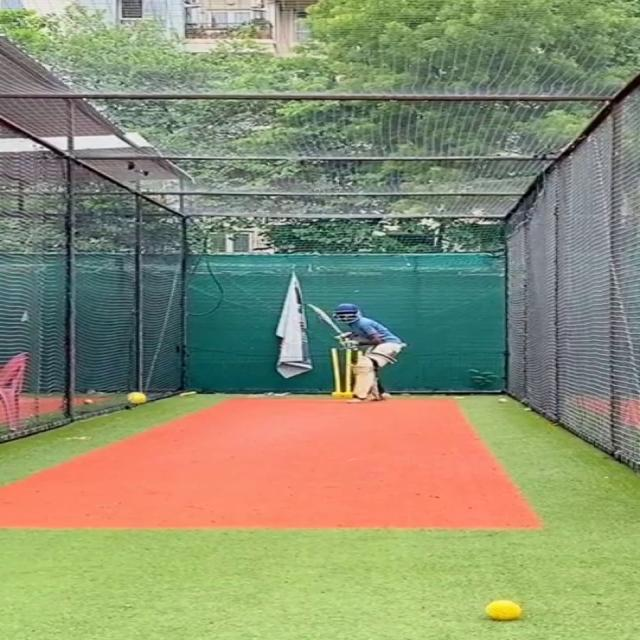ball: (481, 598, 520, 623), (120, 391, 149, 405)
stump: (327, 346, 363, 395)
